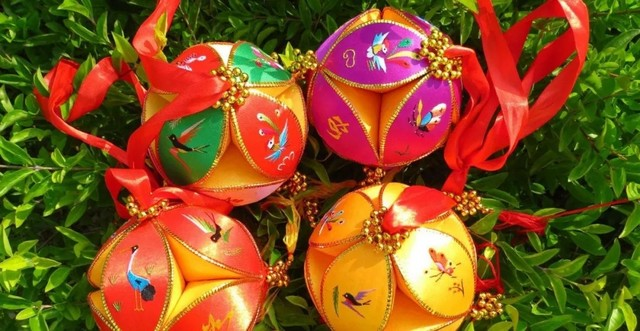xiuqiu: (139, 42, 308, 208)
